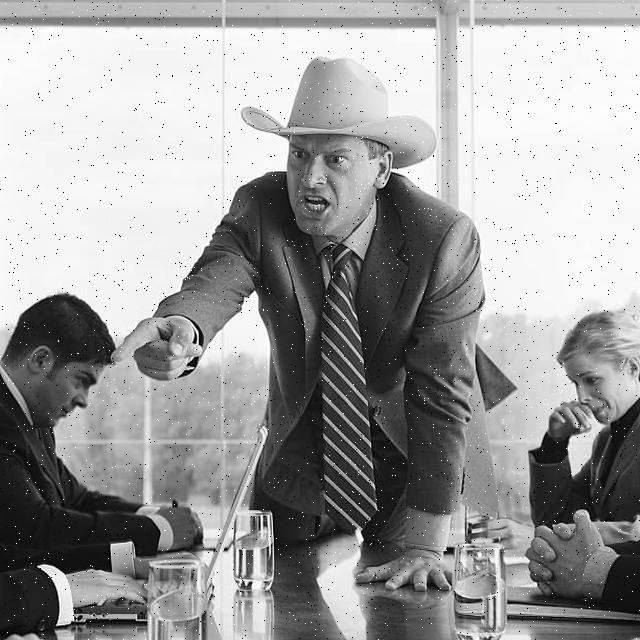Angry: (286, 129, 376, 235)
